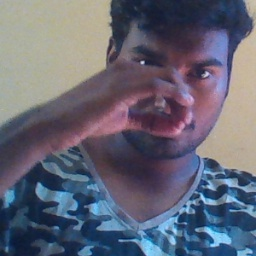O: (61, 56, 196, 157)
